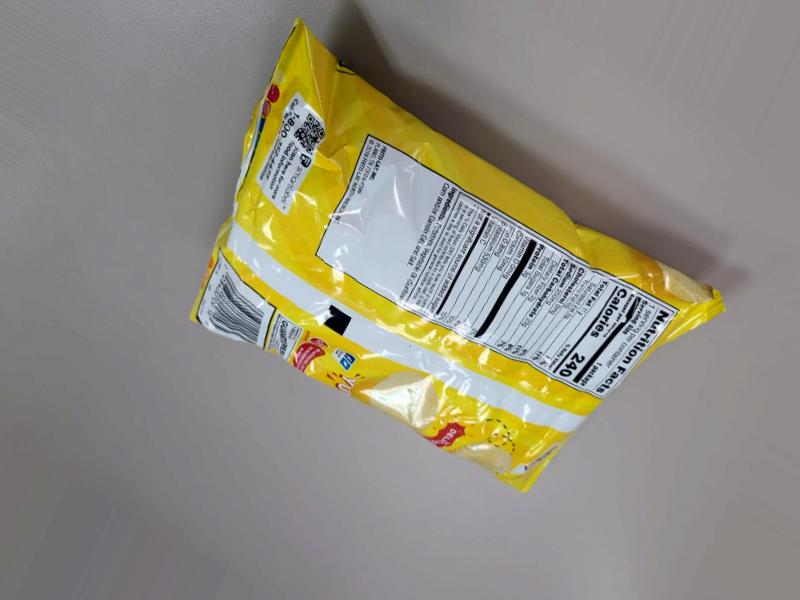lays: (271, 0, 800, 462)
